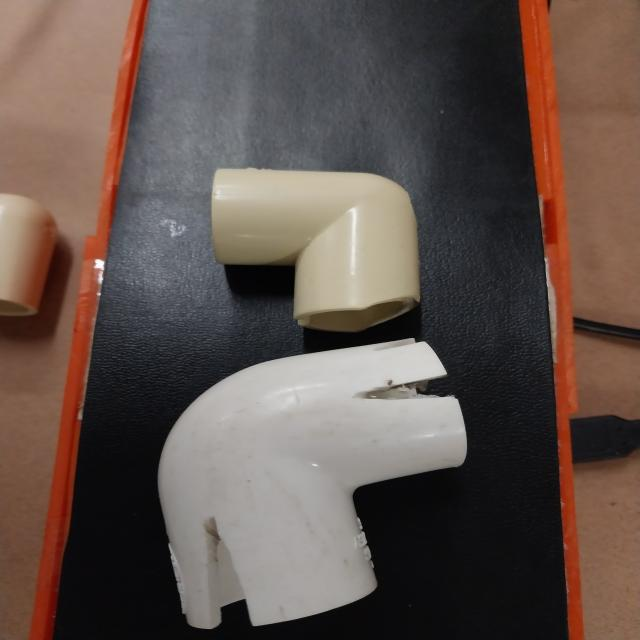Defective: (201, 511, 254, 619), (350, 374, 458, 406), (580, 318, 638, 350)
L Joint: (156, 339, 470, 632), (210, 169, 427, 333)
